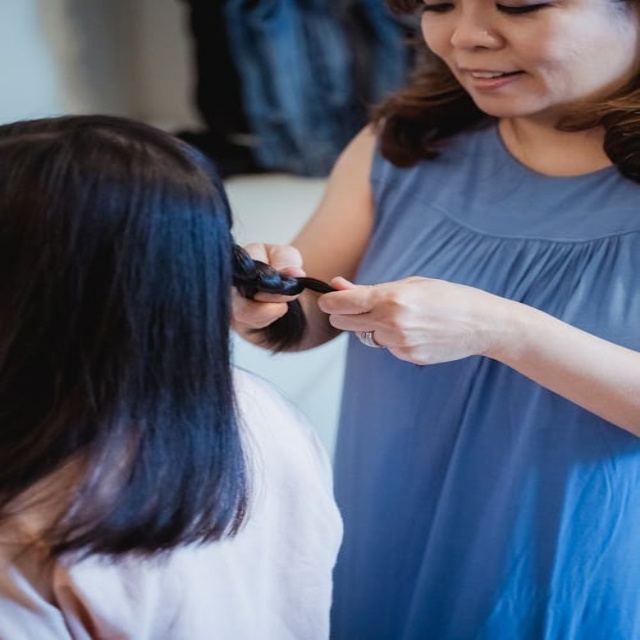Sin_gafas: (406, 1, 566, 26)
Sin_guantes: (316, 273, 508, 367), (229, 237, 316, 334)
Sin_mascara: (449, 57, 558, 110)
